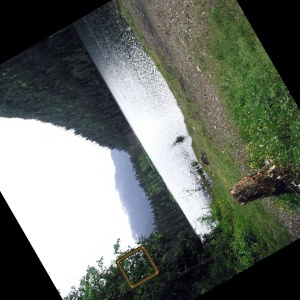square: (113, 244, 161, 290)
